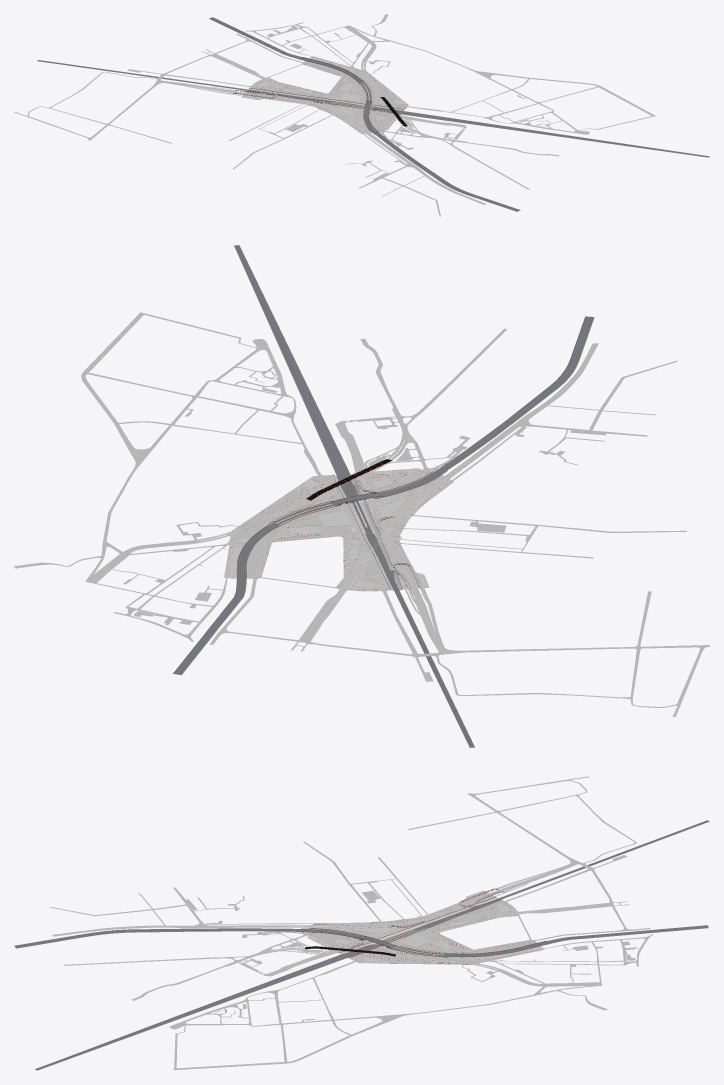
Rendered from MODEL_Environment.fbx.
3 renders of one model, top to bottom at view 1: azimuth 30°, elevation 25°; view 2: azimuth 150°, elevation 25°; view 3: azimuth 270°, elevation 25°, orthographic. The views are drawn at different scales.
Parts seen in each view (by area): view 1: SM_NS_PR_Asphalt02, SM_NS_PR_Asphalt, SM_NS_PR_Pavement, SM_NS_PR_Grass, SM_NS_PR_Ground_2(Bot), SM_NS_Railway_MZD, SM_NS_Railway_RZD, SM_NS_PR_Ground_1(Top), SM_PR_FenceRZD; view 2: SM_NS_PR_Asphalt02, SM_NS_PR_Asphalt, SM_NS_PR_Pavement, SM_NS_PR_Grass, SM_NS_Railway_MZD, SM_NS_PR_Ground_2(Bot), SM_NS_Railway_RZD, SM_NS_PR_Ground_1(Top), SM_NS_Grass_Elevation; view 3: SM_NS_PR_Asphalt02, SM_NS_PR_Asphalt, SM_NS_PR_Pavement, SM_NS_PR_Grass, SM_NS_Railway_MZD, SM_NS_PR_Ground_2(Bot), SM_NS_Railway_RZD, SM_NS_PR_Ground_1(Top), SM_PR_FenceRZD, SM_Pavement_Borders.
Boxes of the visible parts, <box> form: SM_NS_PR_Asphalt02: <box>14,14,655,216</box>; SM_NS_PR_Asphalt: <box>217,51,444,145</box>; SM_NS_PR_Pavement: <box>242,56,407,140</box>; SM_NS_PR_Grass: <box>241,56,408,133</box>; SM_NS_PR_Ground_2(Bot): <box>37,60,709,157</box>; SM_NS_Railway_MZD: <box>209,17,520,211</box>; SM_NS_Railway_RZD: <box>37,60,709,157</box>; SM_NS_PR_Ground_1(Top): <box>209,18,520,211</box>; SM_PR_FenceRZD: <box>247,57,404,134</box>; SM_NS_PR_Asphalt02: <box>14,312,709,716</box>; SM_NS_PR_Asphalt: <box>186,436,476,615</box>; SM_NS_PR_Pavement: <box>225,458,454,590</box>; SM_NS_PR_Grass: <box>224,468,453,591</box>; SM_NS_Railway_MZD: <box>174,316,593,674</box>; SM_NS_PR_Ground_2(Bot): <box>234,245,474,747</box>; SM_NS_Railway_RZD: <box>235,245,473,747</box>; SM_NS_PR_Ground_1(Top): <box>173,316,594,675</box>; SM_NS_Grass_Elevation: <box>334,473,402,590</box>; SM_NS_PR_Asphalt02: <box>50,776,653,1070</box>; SM_NS_PR_Asphalt: <box>269,887,543,967</box>; SM_NS_PR_Pavement: <box>280,891,543,964</box>; SM_NS_PR_Grass: <box>307,890,544,964</box>; SM_NS_Railway_MZD: <box>14,925,708,956</box>; SM_NS_PR_Ground_2(Bot): <box>35,820,709,1070</box>; SM_NS_Railway_RZD: <box>35,820,708,1070</box>; SM_NS_PR_Ground_1(Top): <box>15,925,708,956</box>; SM_PR_FenceRZD: <box>301,896,548,957</box>; SM_Pavement_Borders: <box>279,895,543,964</box>.
Bounding box in the file's own units: 3779 × 29.51 × 3782.
